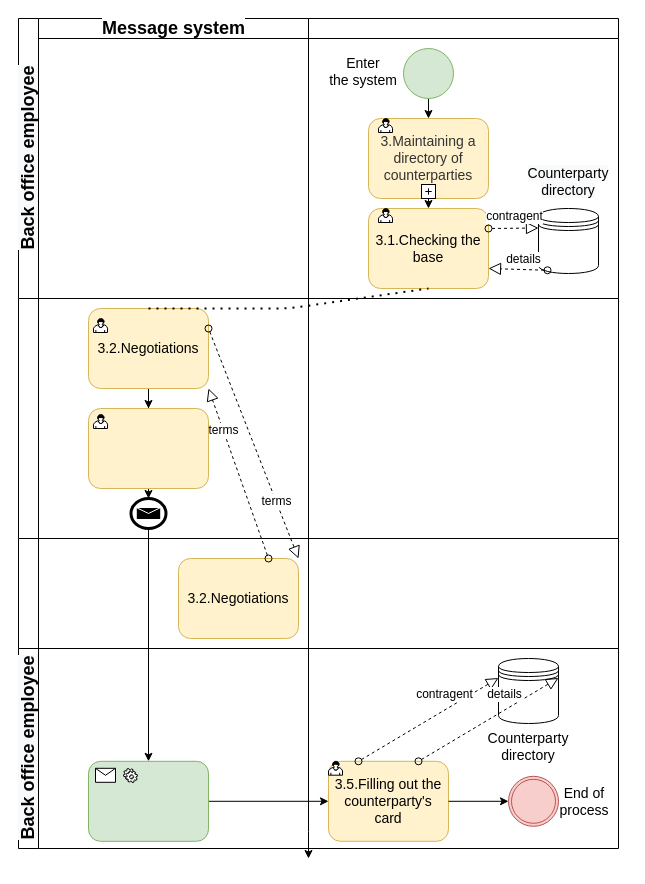
Image size: 645x884. Some labels were removed from this diagram. Each missing label, with the box of its shape:
3.3. Sending payment details: (88, 408, 208, 488)
3.4.Receiving payment details: (88, 760, 208, 841)
Banks: (18, 538, 618, 648)
Diasoft: (308, 18, 618, 298)
Girolamo Riario: (18, 298, 618, 538)
